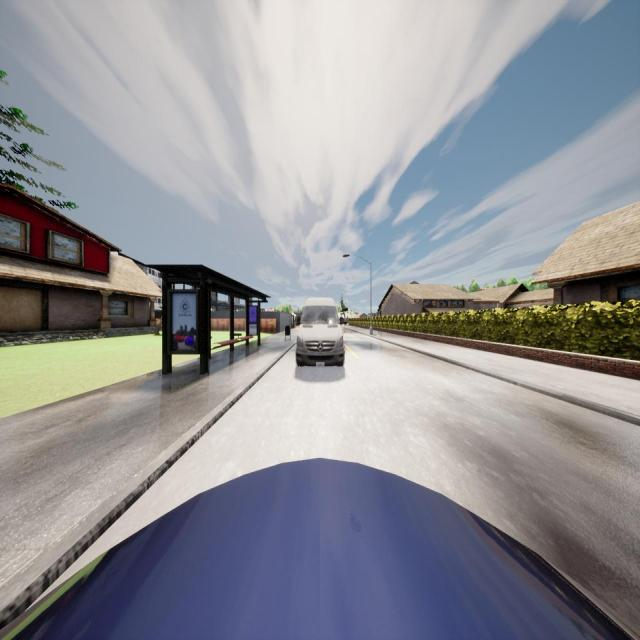Vehicle: (0, 456, 640, 640), (296, 297, 344, 366)
